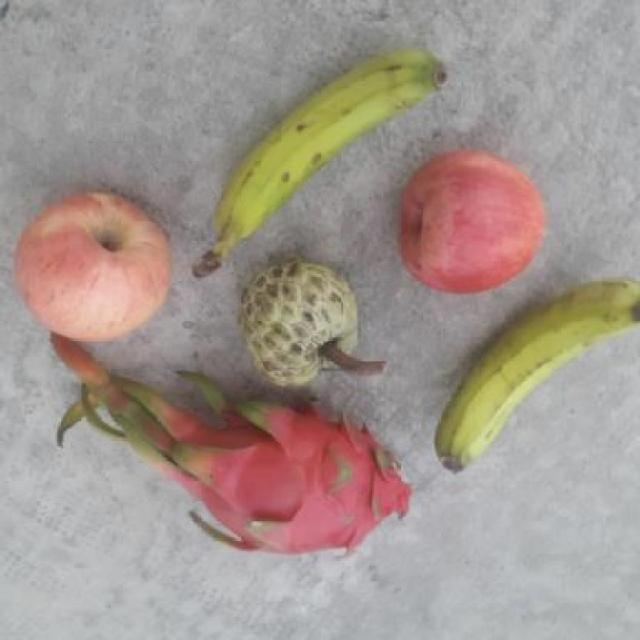apple: (9, 186, 182, 342), (393, 150, 553, 296)
banana: (191, 46, 455, 282), (435, 279, 639, 473)
dragon fruit: (172, 387, 413, 558)
sugar apple: (238, 258, 378, 392)
